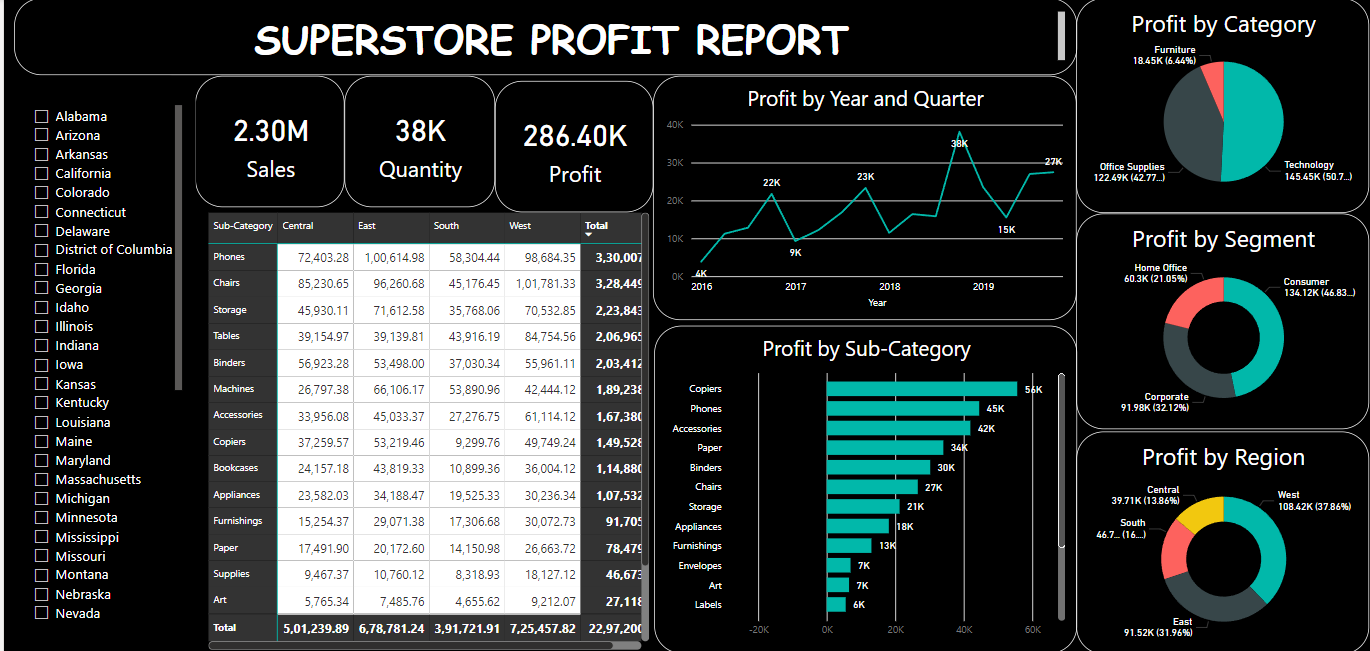

This screenshot's page, from the dashboard's own definition file:
{"tool":"powerbi","page":{"name":"SAMPLE Report","canvas":[1500,720],"ordinal":0},"visuals":[{"type":"textbox","box":[10.9,0,1167,84.8],"z":0},{"type":"pivotTable","fields":{"Values":["Sum(Orders.Sales)"],"Rows":["Orders.Sub-Category"],"Columns":["Orders.Region"]},"box":[219.7,230.6,493.8,489.4],"z":1000},{"type":"barChart","fields":{"Category":["Orders.Sub-Category"],"Y":["Sum(Orders.Profit)"]},"box":[713.5,360,464.4,360],"z":2000},{"type":"donutChart","fields":{"Category":["Orders.Region"],"Y":["Sum(Orders.Profit)"]},"box":[1177.9,475.3,321.9,244.7],"z":3000},{"type":"donutChart","fields":{"Y":["Sum(Orders.Profit)"],"Category":["Orders.Segment"]},"box":[1177.9,236,321.9,237.1],"z":4000},{"type":"pieChart","fields":{"Y":["Sum(Orders.Profit)"],"Category":["Orders.Category"]},"box":[1177.9,0,321.9,236],"z":5000},{"type":"card","fields":{"Values":["Sum(Orders.Sales)"]},"box":[209.9,85.9,164.2,144.7],"z":6000},{"type":"card","fields":{"Values":["Sum(Orders.Quantity)"]},"box":[374.1,84.8,165.3,144.7],"z":7000},{"type":"card","fields":{"Values":["Sum(Orders.Profit)"]},"box":[539.5,91.4,174,144.7],"z":8000},{"type":"lineChart","fields":{"Y":["Sum(Orders.Profit)"],"Category":["Orders.Order Date.Variation.Date Hierarchy.Year","Orders.Order Date.Variation.Date Hierarchy.Quarter","Orders.Order Date.Variation.Date Hierarchy.Month","Orders.Order Date.Variation.Date Hierarchy.Day"]},"box":[712.9,85.9,464.7,268.2],"z":9000},{"type":"slicer","fields":{"Values":["Orders.State"]},"box":[10.9,85.9,199.1,613.6],"z":10000}]}

Visuals, with their boxes in screenshot pixels (x1, y1, x2, y2), scaled from the page's 1500x720 canvas onto the 1370x651 screenshot:
textbox: (10, 0, 1076, 77)
pivotTable - Sum(Orders.Sales) x Orders.Sub-Category: (201, 209, 652, 650)
barChart - Orders.Sub-Category x Sum(Orders.Profit): (652, 326, 1076, 650)
donutChart - Orders.Region x Sum(Orders.Profit): (1076, 430, 1369, 650)
donutChart - Sum(Orders.Profit) x Orders.Segment: (1076, 213, 1369, 428)
pieChart - Sum(Orders.Profit) x Orders.Category: (1076, 0, 1369, 213)
card - Sum(Orders.Sales): (192, 78, 342, 209)
card - Sum(Orders.Quantity): (342, 77, 493, 208)
card - Sum(Orders.Profit): (493, 83, 652, 213)
lineChart - Sum(Orders.Profit) x Orders.Order Date.Variation.Date Hierarchy.Year: (651, 78, 1076, 320)
slicer - Orders.State: (10, 78, 192, 632)
